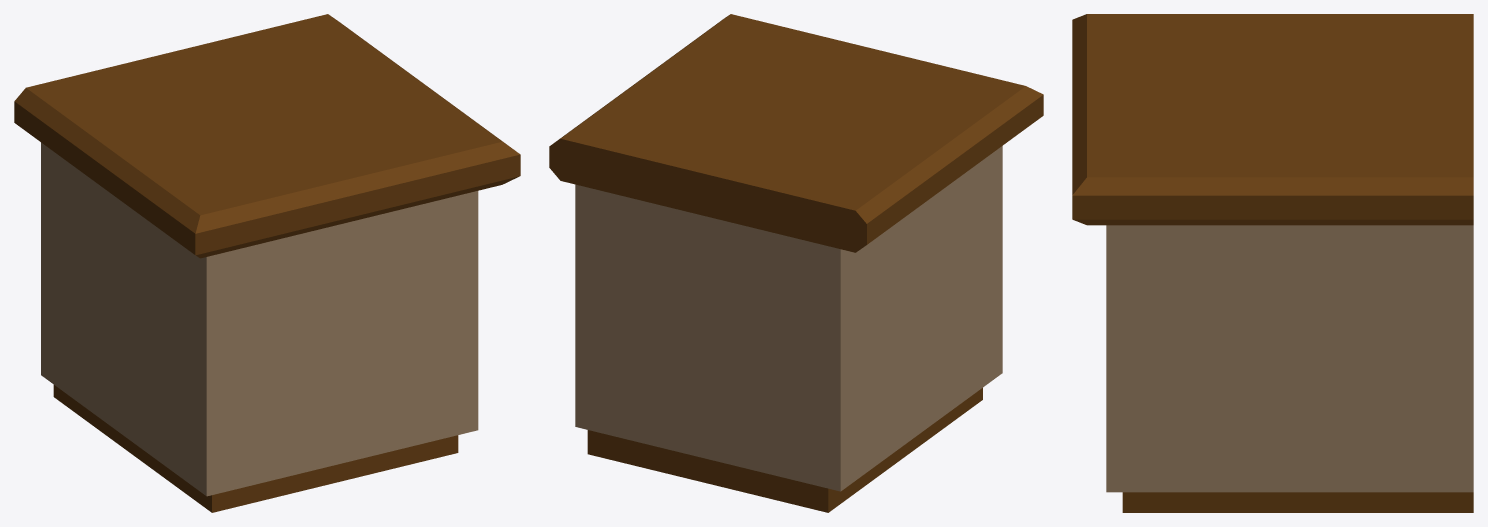
Rendered from SM_Bench_Floating_End.fbx.
3 views of the same model, side by side, from view 1: azimuth 30°, elevation 25°; view 2: azimuth 150°, elevation 25°; view 3: azimuth 270°, elevation 25° (orthographic). The views are drawn at different scales.
Visible parts, largest first — view 1: SM_Bench_Floating_End; view 2: SM_Bench_Floating_End; view 3: SM_Bench_Floating_End.
Boxes of the visible parts, box(x1,y1,x2,y2) form: SM_Bench_Floating_End: box(14, 14, 520, 512); SM_Bench_Floating_End: box(549, 14, 1043, 512); SM_Bench_Floating_End: box(1072, 14, 1473, 512).
Bounding box in the file's own units: 1.08 × 1 × 1.04.
